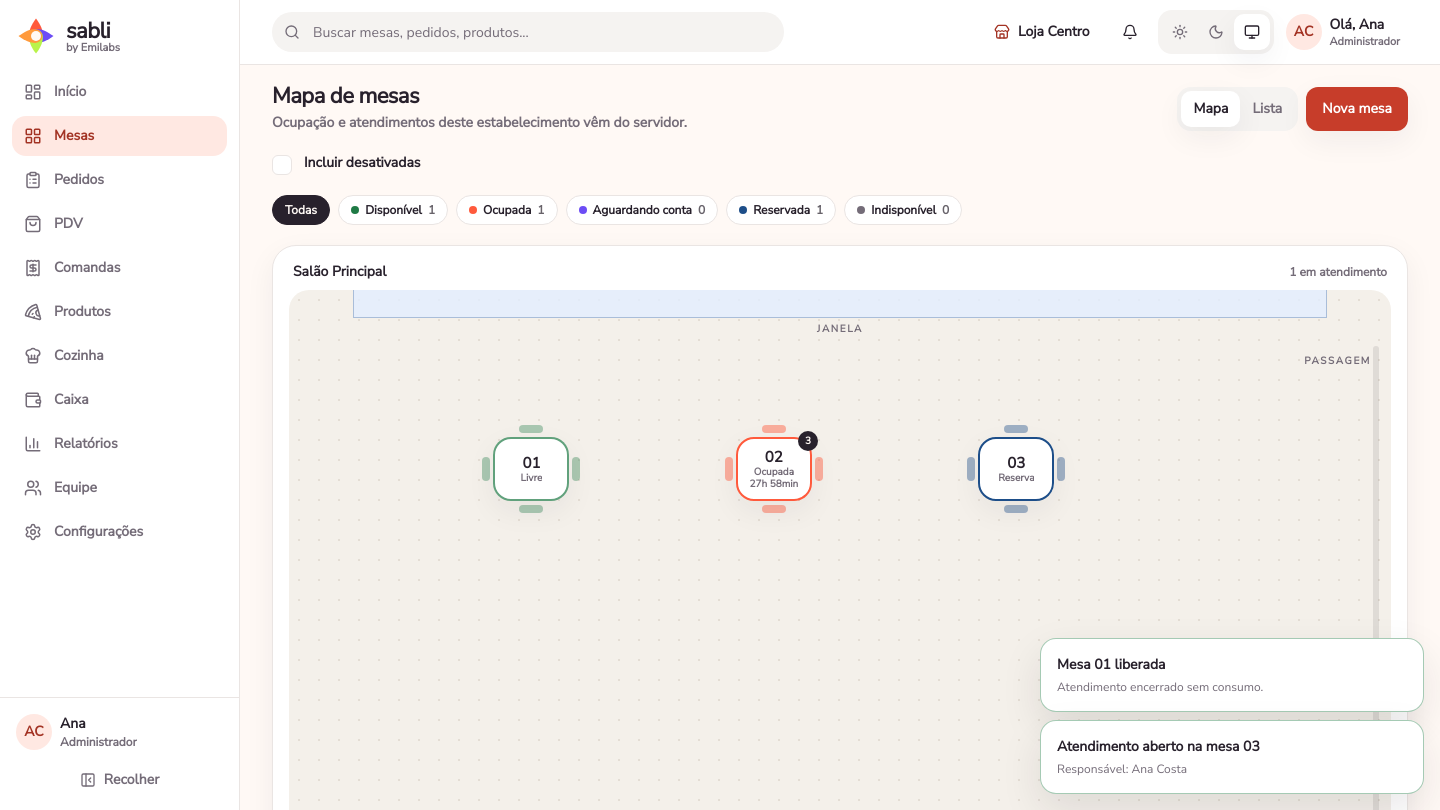
Test case: cliente de mesas › não inventa consumo a partir da ocupação
Step 1. Click the button with aria-label "mesa 02, ocupada" → (774, 469), box [725,425,823,513]
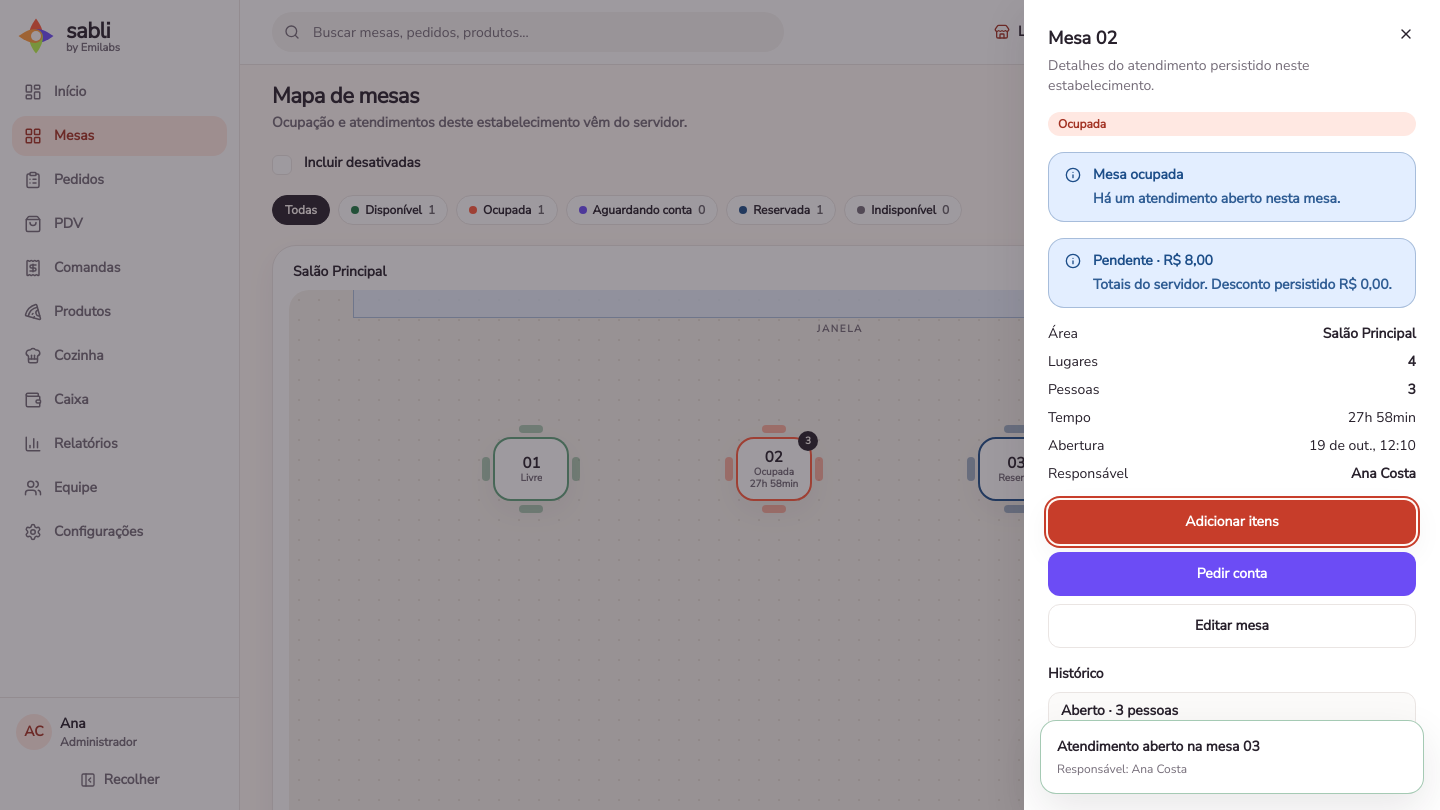
Result: the text "Pendente · R$ 8,00" is shown at [1093,251,1213,270]
Result: the text "Totais do servidor. Desconto persistido R$ 0,00." is shown at [1093,275,1392,295]
